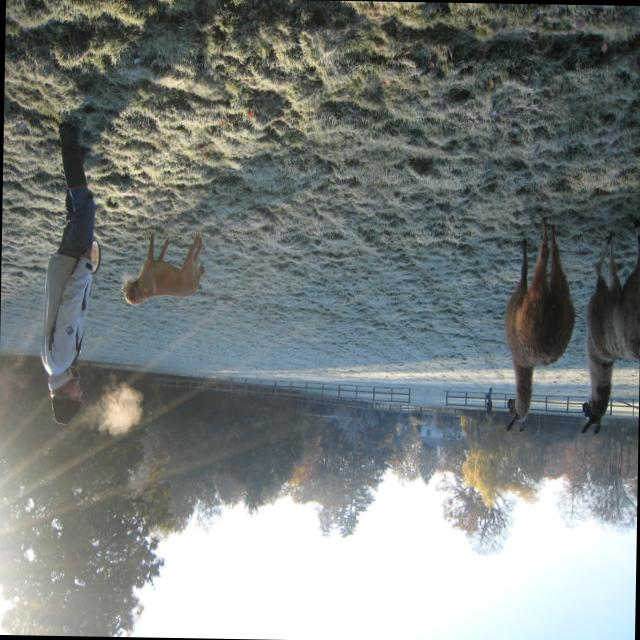alpaca: (500, 216, 577, 436), (577, 224, 640, 435)
